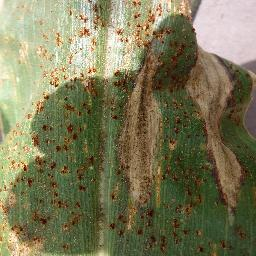Corn_Blight: (2, 0, 254, 253)
